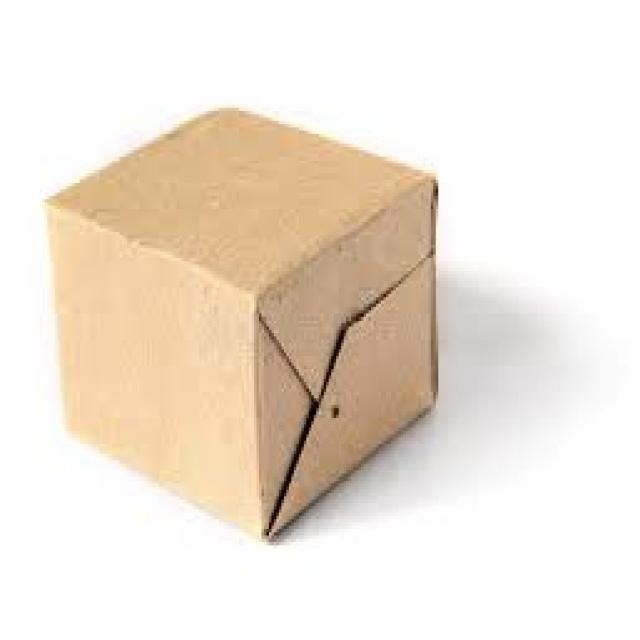Cardboard: (49, 104, 439, 539)
